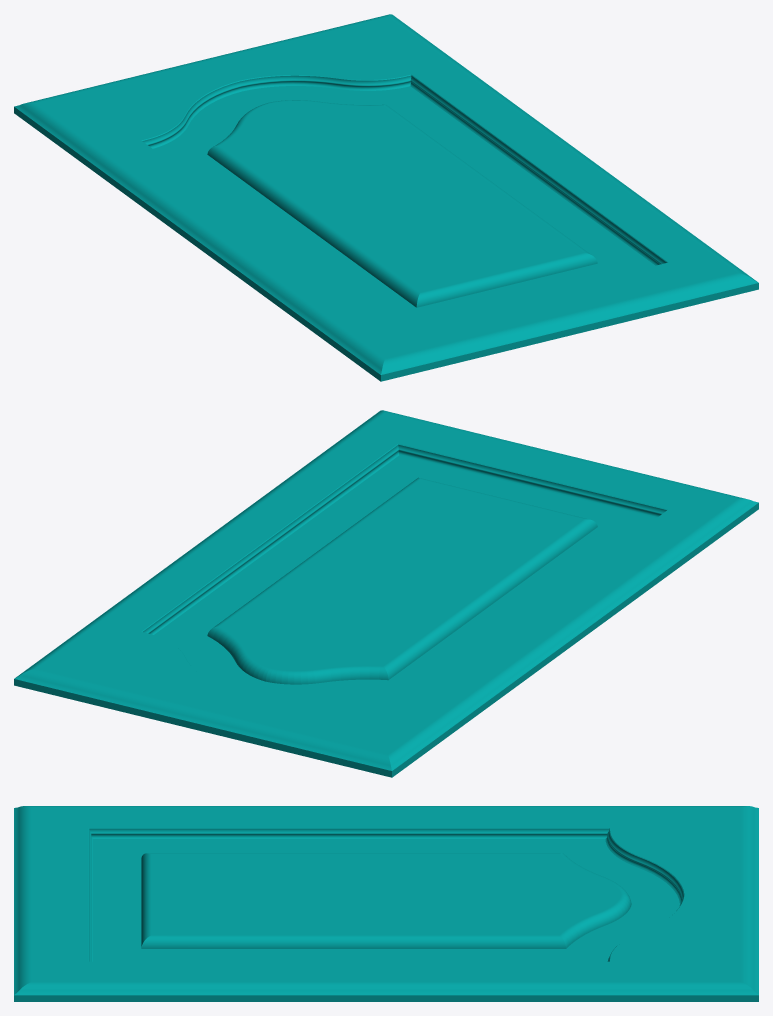
Rendered from cathedral_raised_panel.glb.
The picture shows the model from 3 angles, top to bottom: view 1: azimuth 30°, elevation 25°; view 2: azimuth 150°, elevation 25°; view 3: azimuth 270°, elevation 25°; orthographic projection.
Size of the model in its own units: 1.19 by 0.04 by 2.
